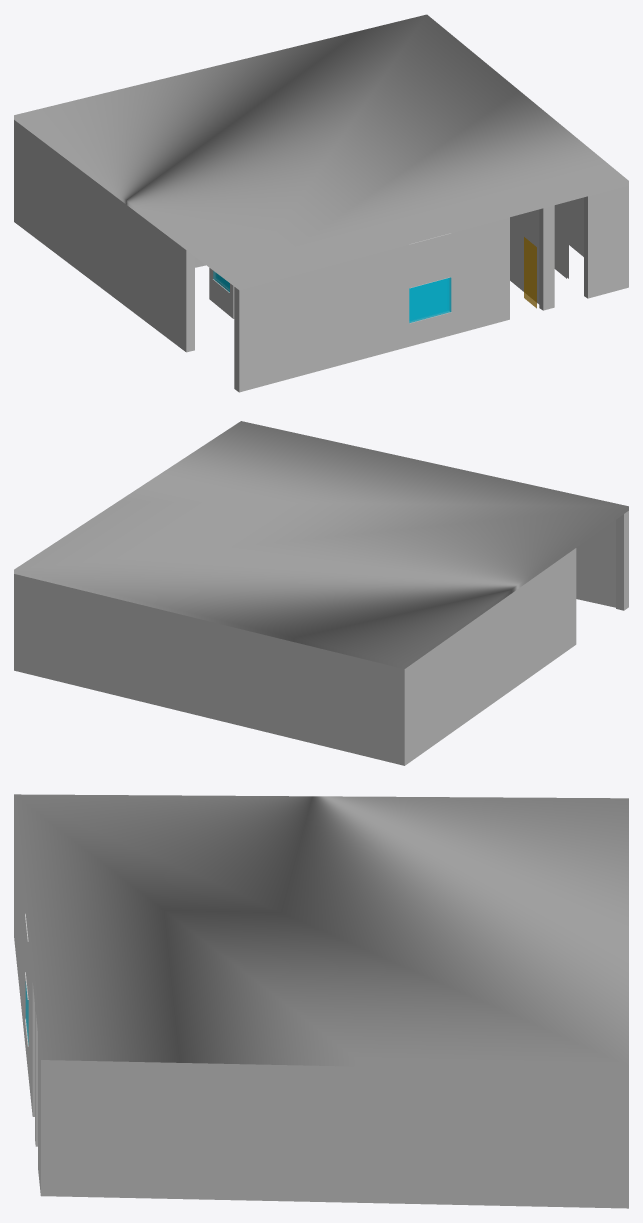
3 views of the same model, one above another, from view 1: azimuth 30°, elevation 25°; view 2: azimuth 150°, elevation 25°; view 3: azimuth 270°, elevation 25° (orthographic). The views are drawn at different scales.
Parts seen in each view (by area): view 1: roof, walls, windows, doors; view 2: roof, walls; view 3: roof, walls.
Boxes of the visible parts, x1=… form: roof: x1=14, y1=14, x2=628, y2=289; walls: x1=14, y1=120, x2=628, y2=392; windows: x1=213, y1=271, x2=451, y2=323; doors: x1=524, y1=237, x2=536, y2=308; roof: x1=14, y1=421, x2=628, y2=668; walls: x1=14, y1=511, x2=628, y2=765; roof: x1=14, y1=794, x2=628, y2=1072; walls: x1=14, y1=802, x2=628, y2=1208.
Size of the model in its own units: 14.99 by 3.65 by 14.32.
